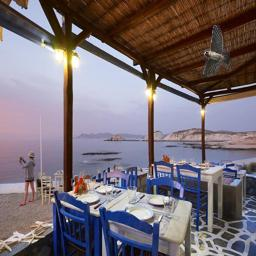Swallow: (203, 25, 230, 77)
